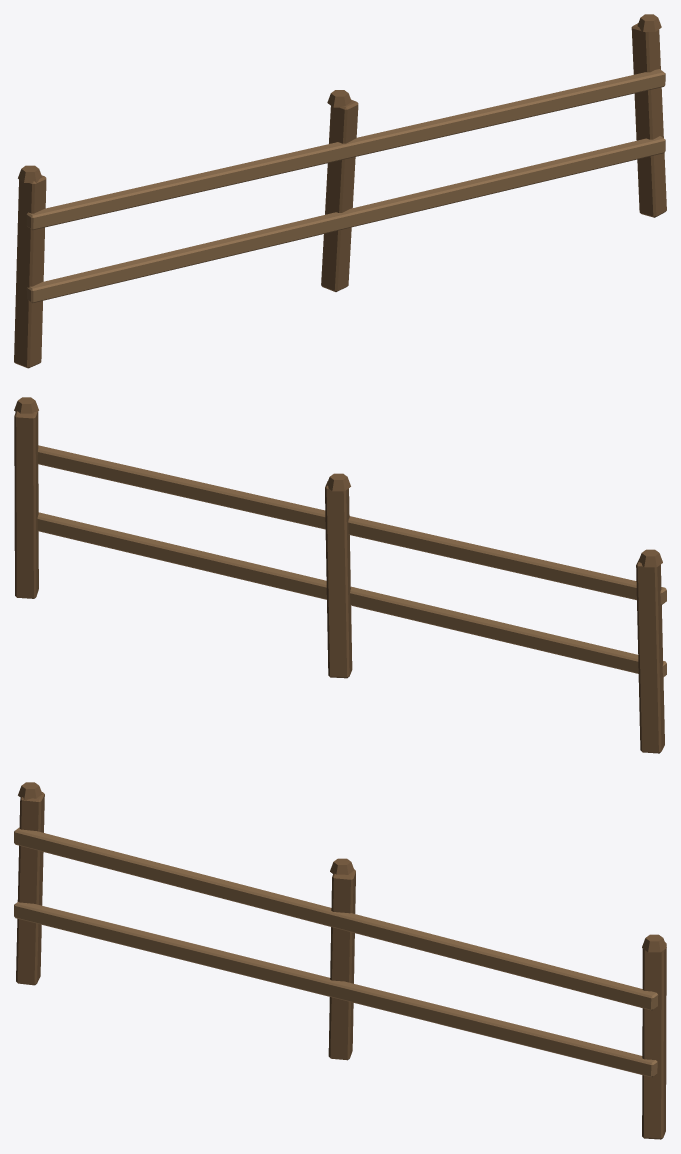
Rendered from fence.glb.
3 views of the same model, one above another, from view 1: azimuth 30°, elevation 25°; view 2: azimuth 150°, elevation 25°; view 3: azimuth 330°, elevation 25° (orthographic).
Visible parts, largest first — view 1: fence; view 2: fence; view 3: fence.
Boxes of the visible parts, x1,y1,x2,y2 form: fence: (14,14,666,368); fence: (14,397,666,753); fence: (14,782,666,1139).
Bounding box in the file's own units: 4.17 × 1.2 × 0.2023.
